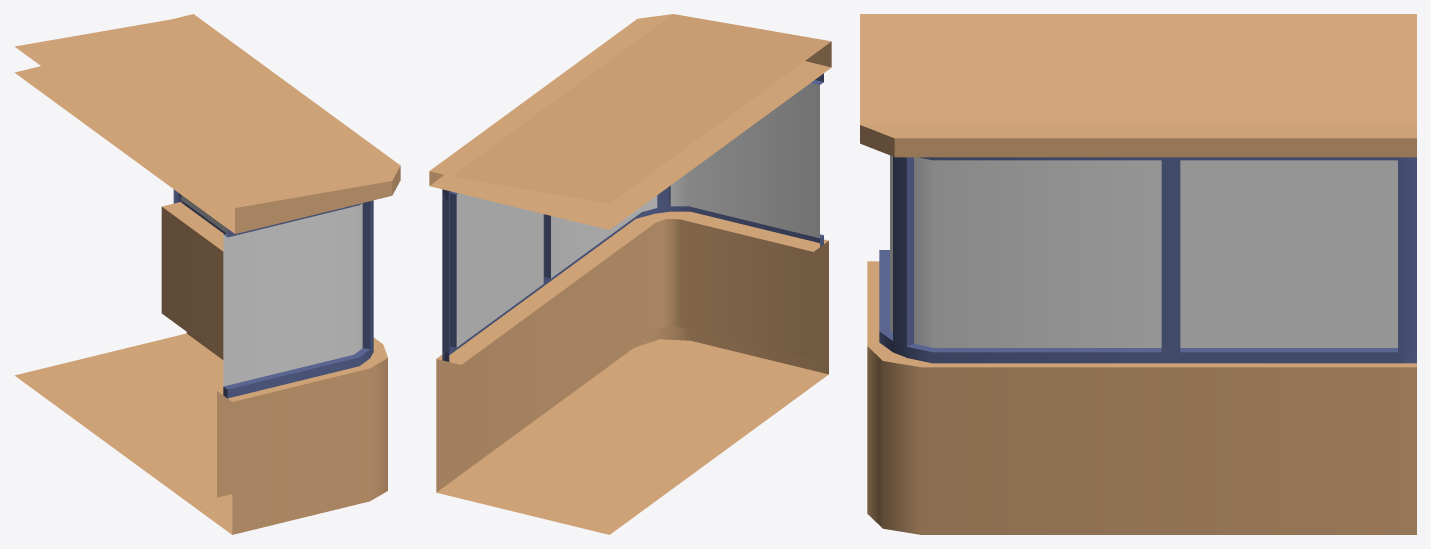
Rendered from sm_sobradoSEILA.fbx.
The picture shows the model from 3 angles, left to right: view 1: azimuth 30°, elevation 25°; view 2: azimuth 150°, elevation 25°; view 3: azimuth 270°, elevation 25°; orthographic projection. The views are drawn at different scales.
Parts seen in each view (by area): view 1: sm_sobradoSEILA; view 2: sm_sobradoSEILA; view 3: sm_sobradoSEILA.
Part boxes in pixels (x1,y1,x2,y2): sm_sobradoSEILA: (14,14,400,534); sm_sobradoSEILA: (429,14,831,534); sm_sobradoSEILA: (860,14,1416,534).
Bounding box in the file's own units: 1.44 × 2.52 × 3.07.
